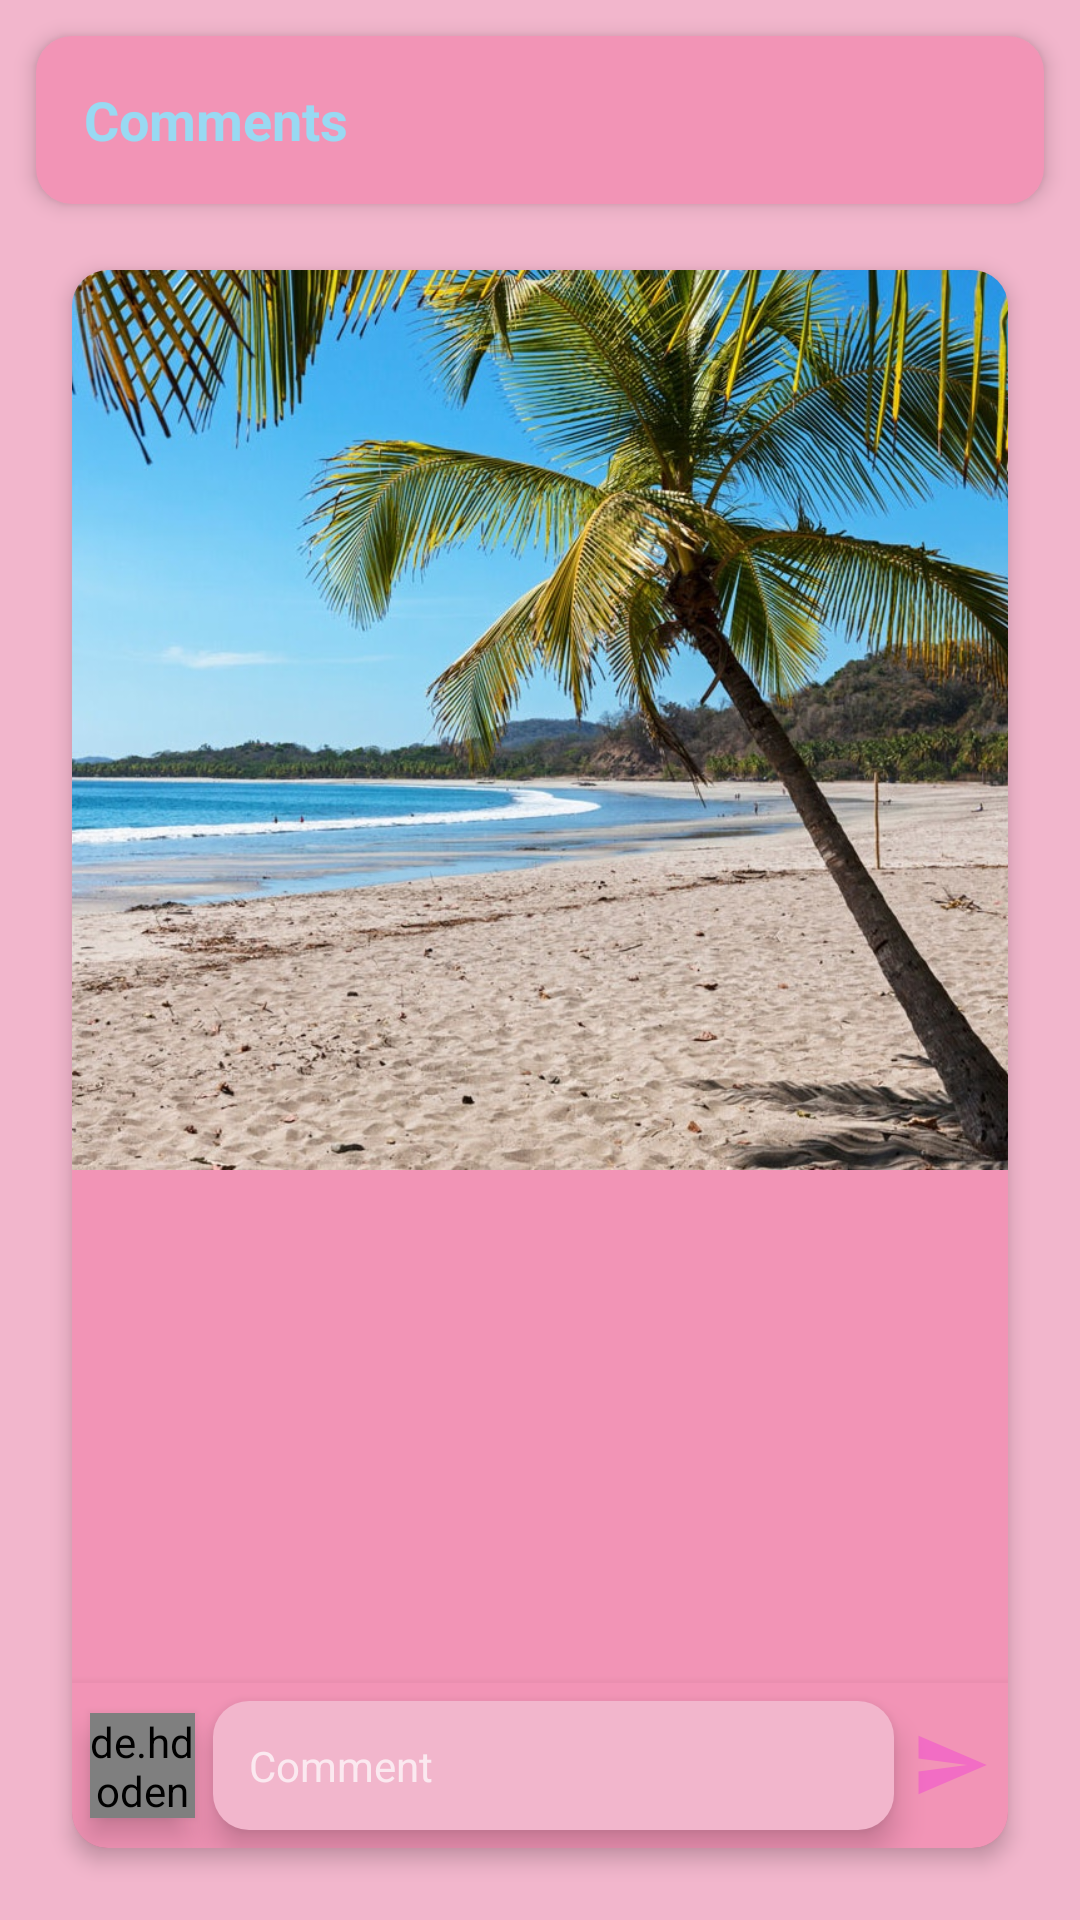

Named icons in this screenshot (1080 x 1920) and their bounding boxes, (x1, y1, x2, y2):
send: (919, 1736, 985, 1794)
